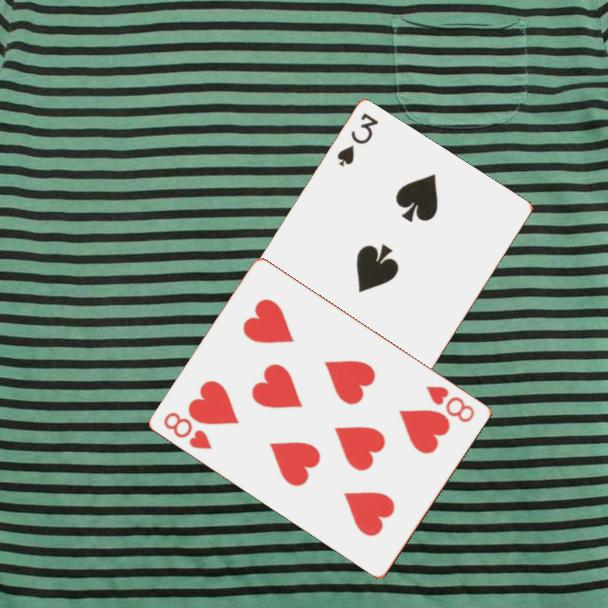h08: (423, 382, 478, 426), (160, 408, 215, 452)
s03: (334, 110, 382, 170)
